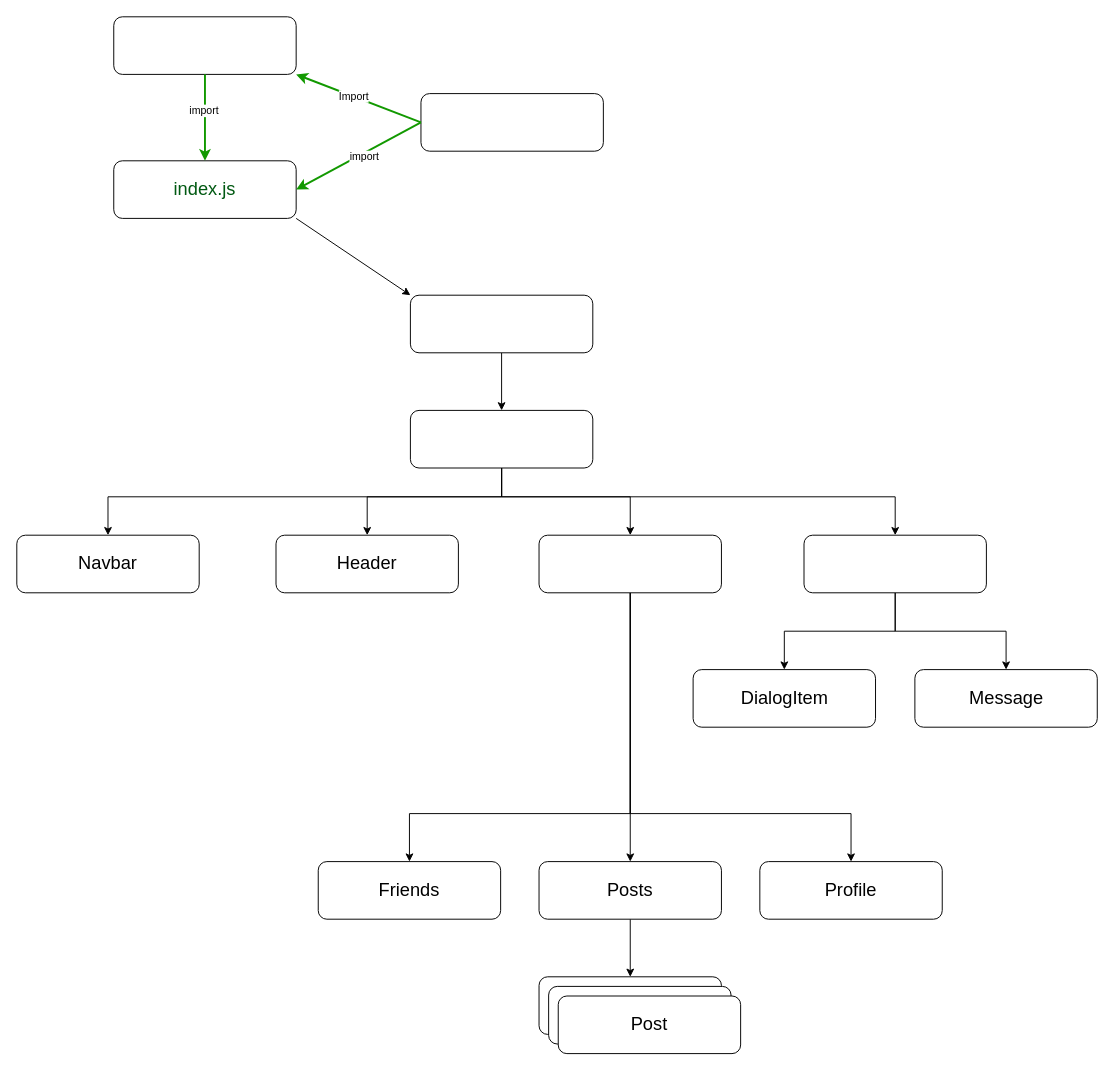
Image size: 1115x1070. Some labels were removed from this diagram. Each missing label, with the box of its shape:
App: (409, 294, 593, 353)
BrowserRouter: (409, 409, 593, 468)
Content: (538, 534, 721, 593)
Dialogs: (803, 534, 986, 593)
render.js: (420, 93, 603, 151)
state.js: (113, 16, 296, 74)
